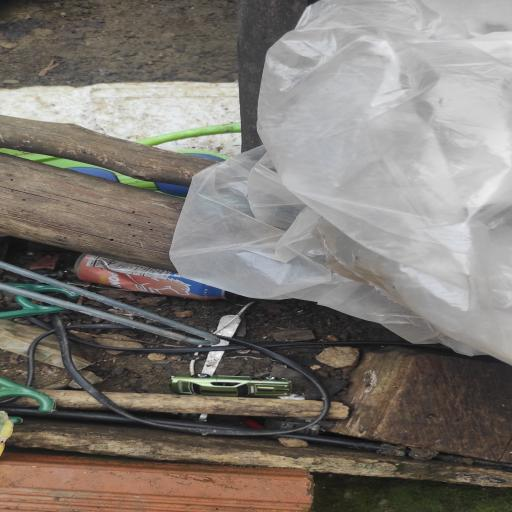Carrito: (171, 374, 291, 397)
